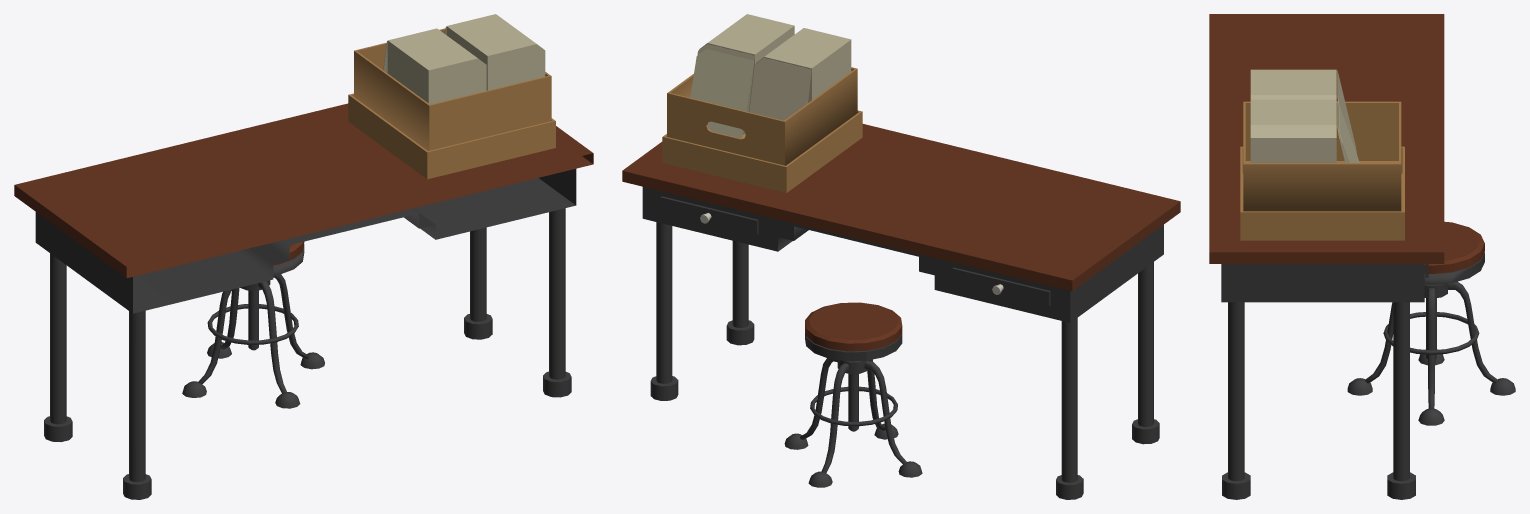
Rendered from ACT3_PunchTable_fin.fbx.
3 renders of one model, left to right at view 1: azimuth 30°, elevation 25°; view 2: azimuth 150°, elevation 25°; view 3: azimuth 270°, elevation 25°, orthographic. The views are drawn at different scales.
Visible parts, largest first — view 1: mesh_Table_Top, mesh_Table_Main, pCylinder3 (×4), mesh_Static_Punchcards, mesh_CardboardBox_Main, mesh_CardboardBox_Top, mesh_Chair_Leg_Main (×2), mesh_Chair_Footrest; view 2: mesh_Table_Top, mesh_Table_Main, pCylinder3 (×4), mesh_Static_Punchcards, mesh_CardboardBox_Main, mesh_CardboardBox_Top, mesh_Chair_Top, mesh_Table_Drawer (×2), mesh_PunchCard_Edge, mesh_Chair_Leg_Main (×2), mesh_Chair_Main, mesh_Chair_Footrest; view 3: mesh_Table_Top, mesh_CardboardBox_Main, mesh_Static_Punchcards, mesh_Table_Main, pCylinder3 (×2), mesh_CardboardBox_Top, mesh_Chair_Leg_Main (×3), mesh_Chair_Top, pCylinder4 (×2), mesh_Chair_Leg_Base (×3), mesh_Chair_Footrest, mesh_Chair_Main.
Boxes of the visible parts, x1=… form: mesh_Table_Top: x1=14, y1=103, x2=593, y2=277; mesh_Table_Main: x1=35, y1=169, x2=576, y2=313; pCylinder3 (×4): x1=50, y1=208, x2=565, y2=481; mesh_Static_Punchcards: x1=383, y1=14, x2=545, y2=104; mesh_CardboardBox_Main: x1=354, y1=28, x2=551, y2=150; mesh_CardboardBox_Top: x1=348, y1=93, x2=555, y2=179; mesh_Chair_Leg_Main (×2): x1=198, y1=281, x2=286, y2=393; mesh_Chair_Footrest: x1=207, y1=304, x2=298, y2=344; mesh_Table_Top: x1=622, y1=124, x2=1180, y2=291; mesh_Table_Main: x1=642, y1=187, x2=1163, y2=322; pCylinder3 (×4): x1=656, y1=222, x2=1153, y2=482; mesh_Static_Punchcards: x1=697, y1=14, x2=851, y2=134; mesh_CardboardBox_Main: x1=667, y1=67, x2=857, y2=165; mesh_CardboardBox_Top: x1=662, y1=110, x2=862, y2=192; mesh_Chair_Top: x1=805, y1=302, x2=902, y2=351; mesh_Table_Drawer (×2): x1=660, y1=196, x2=1050, y2=305; mesh_PunchCard_Edge: x1=690, y1=49, x2=753, y2=138; mesh_Chair_Leg_Main (×2): x1=821, y1=360, x2=906, y2=472; mesh_Chair_Main: x1=805, y1=330, x2=902, y2=361; mesh_Chair_Footrest: x1=810, y1=386, x2=897, y2=426; mesh_Table_Top: x1=1209, y1=14, x2=1444, y2=263; mesh_CardboardBox_Main: x1=1243, y1=101, x2=1401, y2=211; mesh_Static_Punchcards: x1=1250, y1=69, x2=1356, y2=162; mesh_Table_Main: x1=1221, y1=264, x2=1424, y2=302; pCylinder3 (×2): x1=1228, y1=302, x2=1409, y2=481; mesh_CardboardBox_Top: x1=1240, y1=146, x2=1404, y2=240; mesh_Chair_Leg_Main (×3): x1=1365, y1=281, x2=1498, y2=408; mesh_Chair_Top: x1=1424, y1=221, x2=1484, y2=273; pCylinder4 (×2): x1=1222, y1=472, x2=1415, y2=499; mesh_Chair_Leg_Base (×3): x1=1347, y1=378, x2=1515, y2=425; mesh_Chair_Footrest: x1=1383, y1=312, x2=1479, y2=354; mesh_Chair_Main: x1=1424, y1=252, x2=1484, y2=284.
Size of the model in its own units: 4.32 by 3.09 by 2.35.
